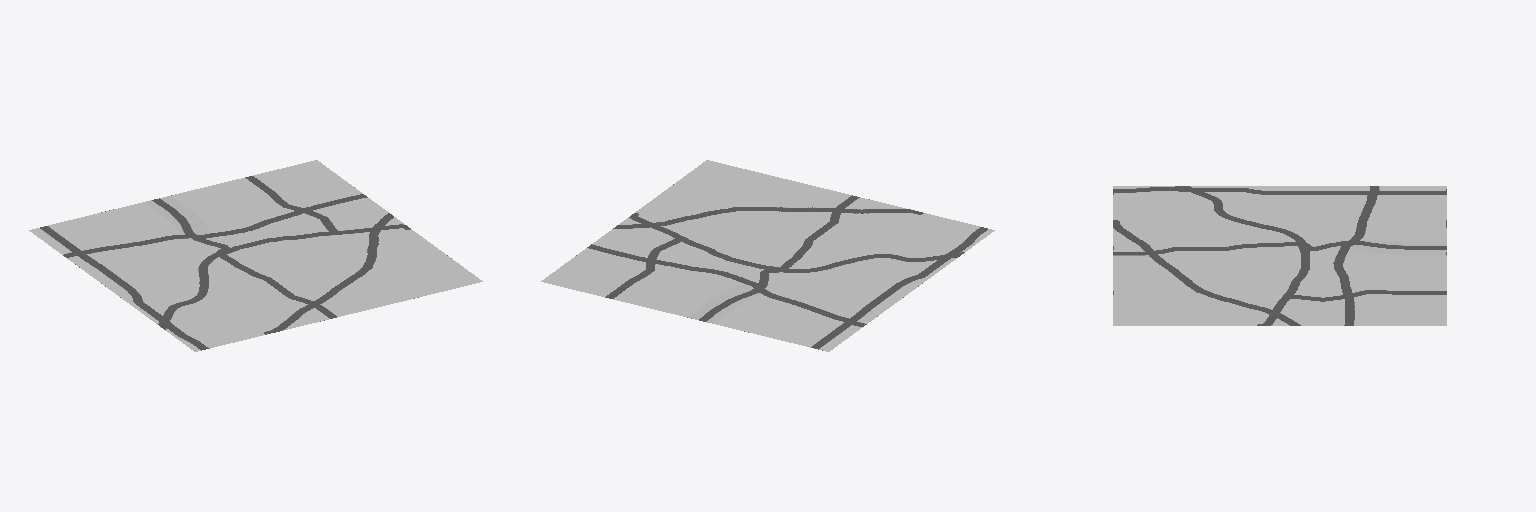
The picture shows the model from 3 angles: view 1: azimuth 30°, elevation 25°; view 2: azimuth 150°, elevation 25°; view 3: azimuth 270°, elevation 25°; orthographic projection.
Visible parts, largest first — view 1: Plane; view 2: Plane; view 3: Plane.
Part boxes in pixels (left/top/right/bottom): Plane: left=29, top=160, right=482, bottom=351; Plane: left=541, top=160, right=994, bottom=351; Plane: left=1113, top=186, right=1446, bottom=325.
Bounding box in the file's own units: 118 × 0 × 118.
Materials: 1 (1 with a texture image).